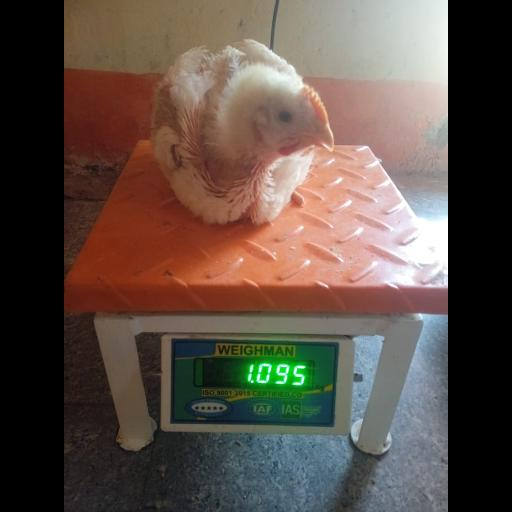chick: (153, 41, 334, 224)
